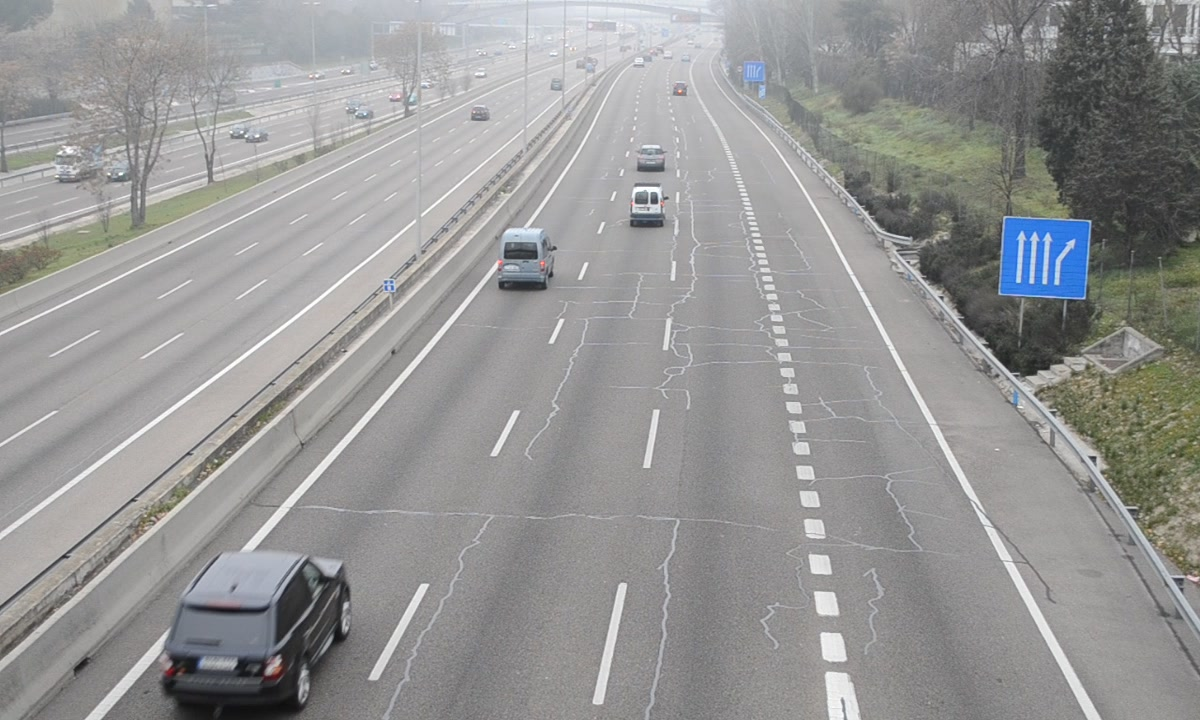car: (163, 549, 353, 711), (636, 144, 666, 171)
van: (498, 227, 556, 284), (629, 180, 668, 229)
